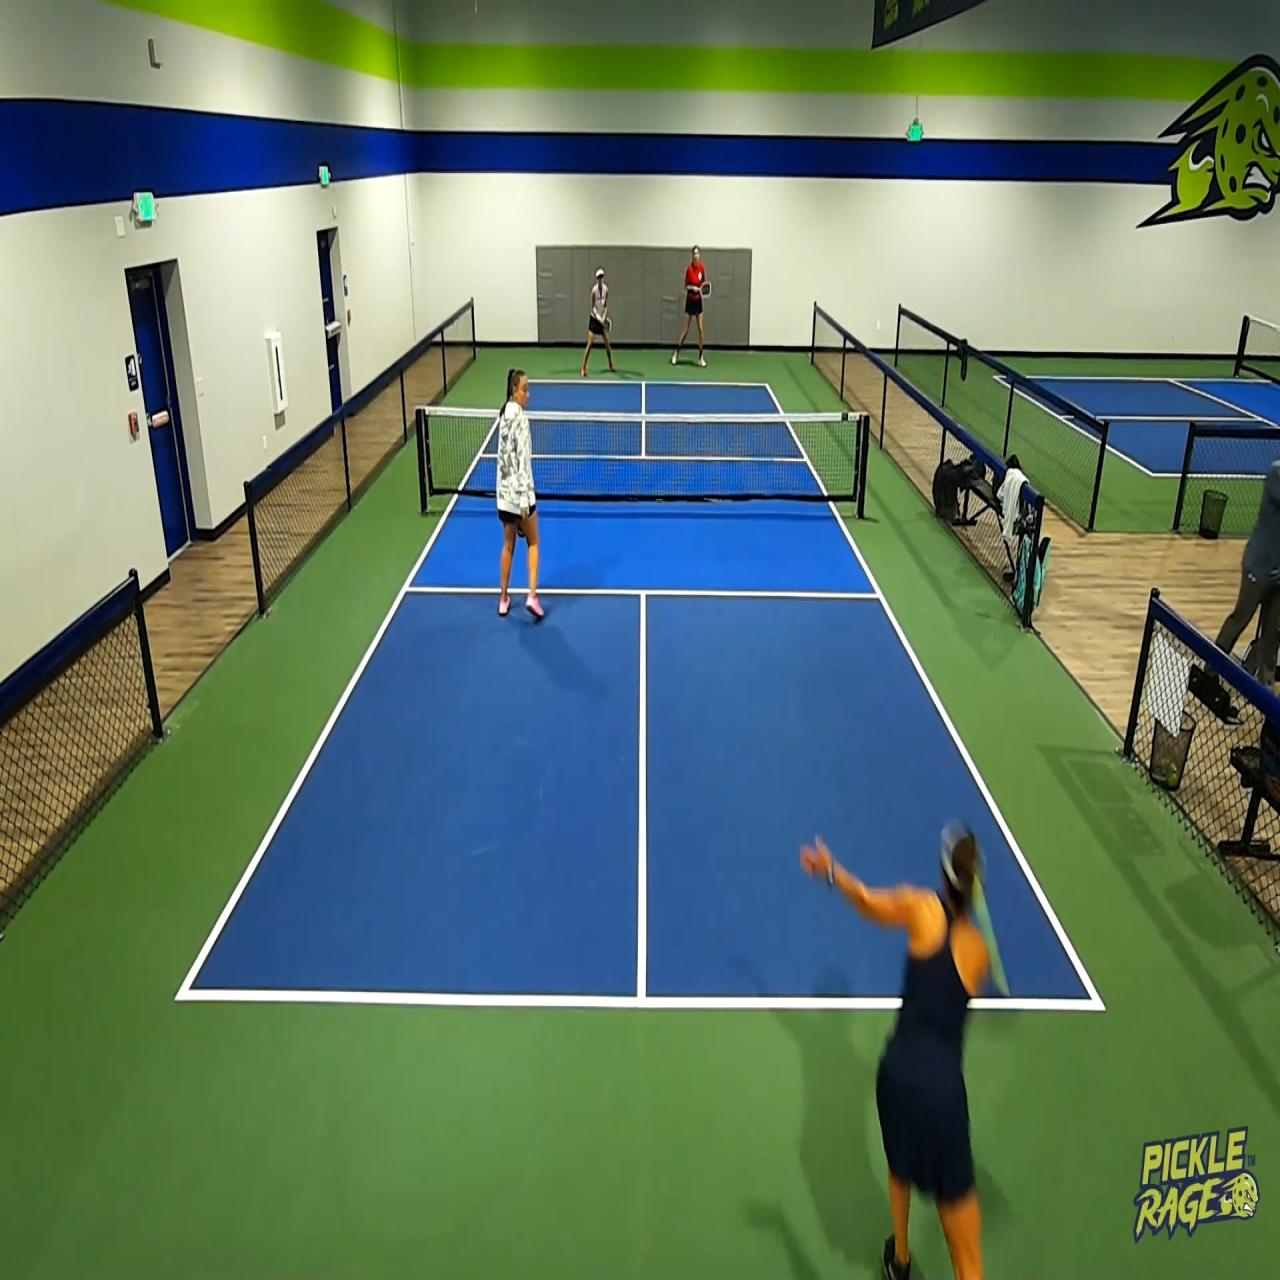Pickleball: (968, 867, 1009, 999)
